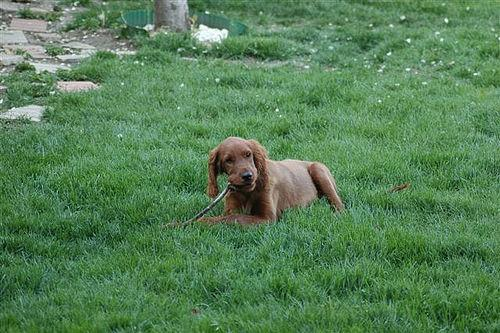Irish_setter: (187, 133, 347, 233)
